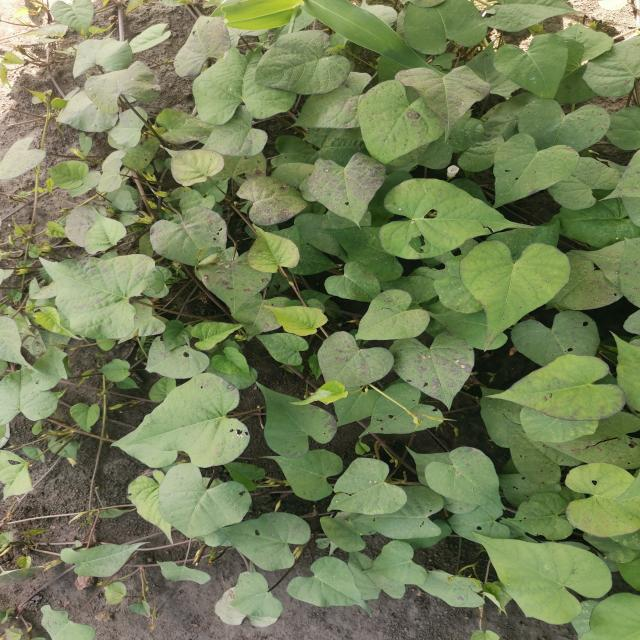MorningGlory: (5, 1, 636, 638)
